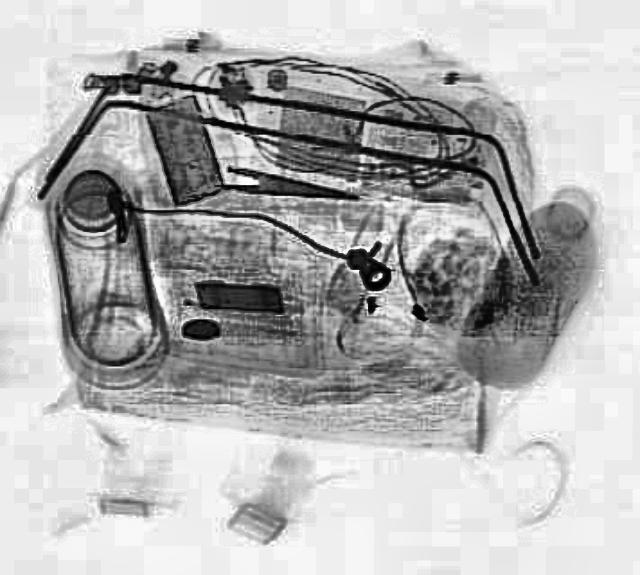Knife: (214, 161, 360, 209)
